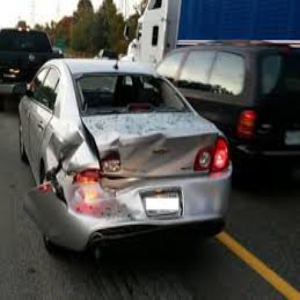bonnet: (91, 111, 214, 153)
bumper: (24, 171, 141, 252)
